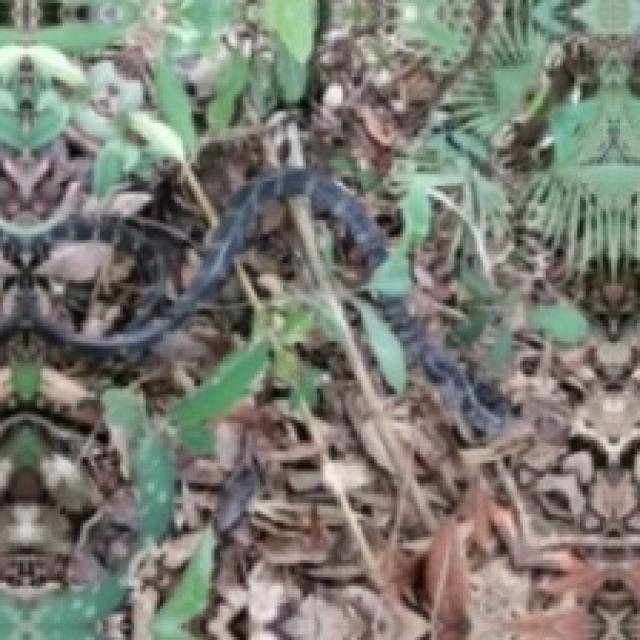dog-toothed cat snake: (0, 166, 386, 354), (386, 306, 506, 431)
